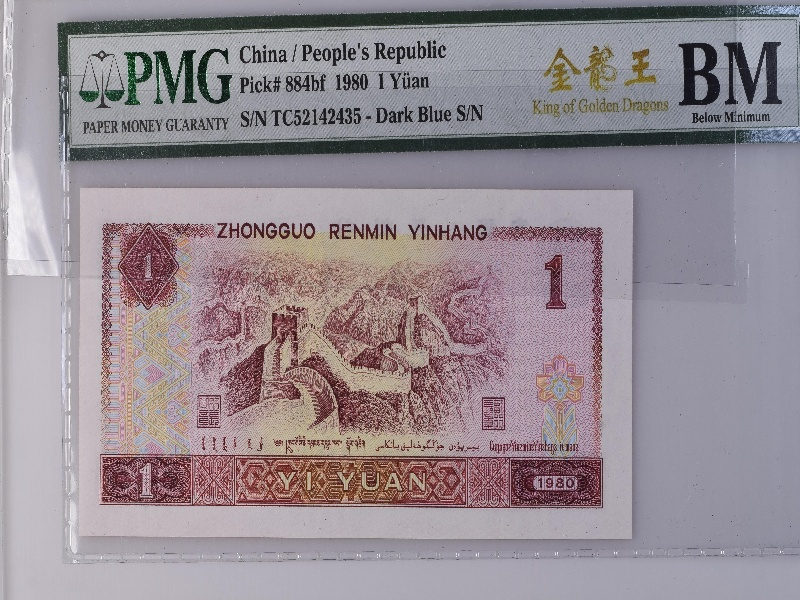papernote: (77, 184, 637, 543)
